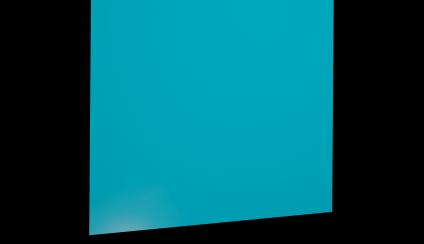boat: (263, 0, 334, 21)
